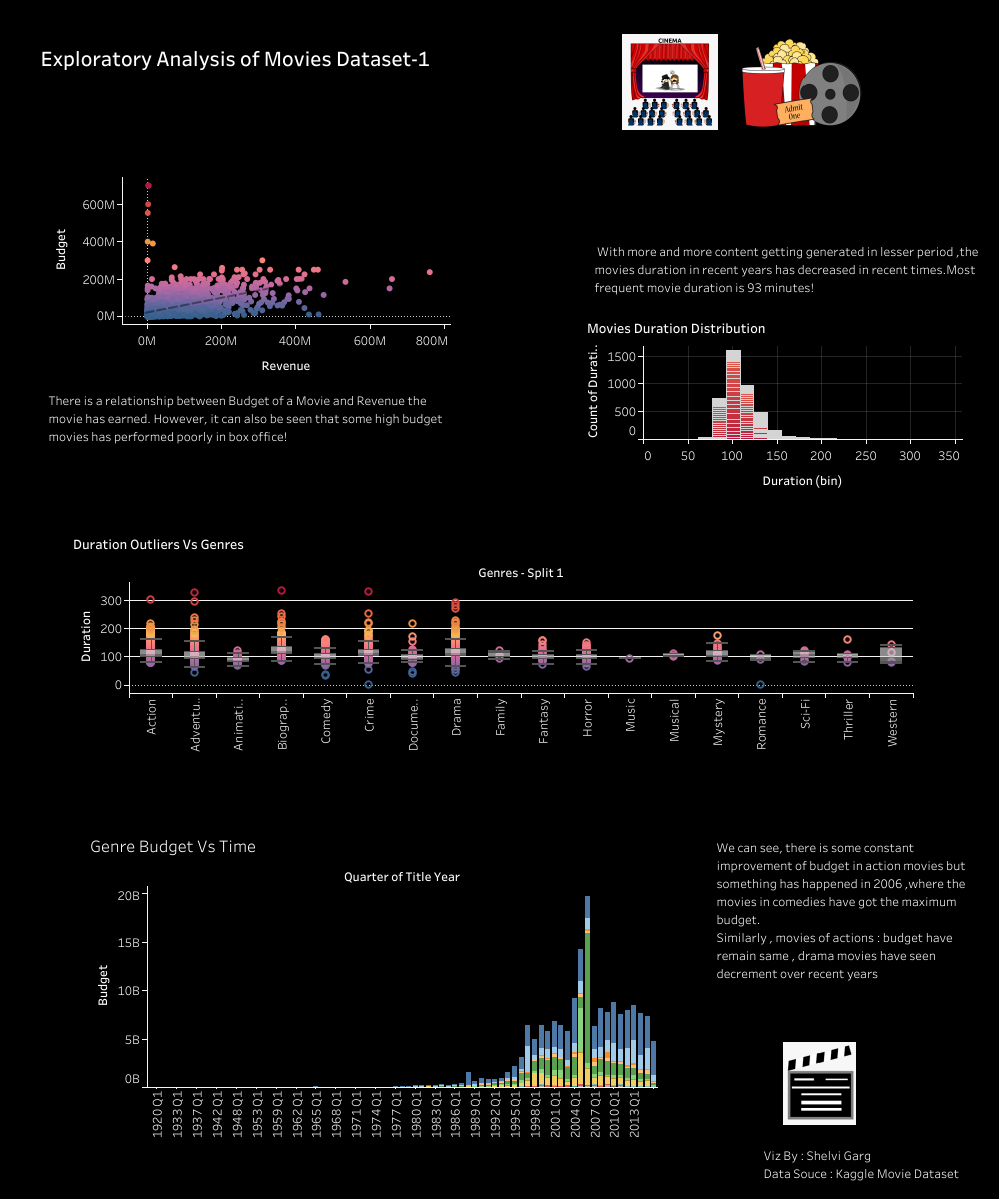

This screenshot's page, from the dashboard's own definition file:
{"tool":"tableau","page":{"name":"Dashboard 1 : Revenue, Budget and Genre","canvas":[1000,1200],"ordinal":0},"visuals":[{"type":"worksheet","box":[38,24,402,67.2]},{"type":"worksheet","param":"Image/0b44ff30dbe13528285e97eb23b3e185.png","box":[656,45,125,104]},{"type":"worksheet","param":"Image/18-183313_theater-clipart-movie-theater-clipart.png","box":[529,52,97,96]},{"type":"worksheet","title":"Budget Vs Revenue","mark":"Line","rows":["budget"],"cols":["gross"],"box":[44,177,406,204]},{"type":"worksheet","box":[592,231,394,76]},{"type":"worksheet","title":"Movies Duration Distribution","mark":"Automatic","rows":["duration"],"cols":["Duration (bin)"],"box":[583,312,379,184]},{"type":"worksheet","box":[46,385,406,66]},{"type":"worksheet","title":"Duration Outliers Vs Genres","mark":"Shape","rows":["duration"],"cols":["genres - Split 1"],"box":[69,528,844,225]},{"type":"worksheet","box":[714,825,255,169]},{"type":"worksheet","title":"Genre Budget Vs Time","mark":"Bar","rows":["budget"],"cols":["title_year"],"box":[86,828,571,311]},{"type":"worksheet","param":"Image/download.png","box":[783,1042,73,91]},{"type":"worksheet","box":[761,1143.6,201,40.8]}]}

Visuals, with their boxes in screenshot pixels (x1, y1, x2, y2), scaled from the page's 1000x1200 canvas onto the 999x1199 screenshot:
worksheet: 38/24/440/91
worksheet: 655/45/780/149
worksheet: 528/52/625/148
"Budget Vs Revenue" worksheet (Line marks): 44/177/450/381
worksheet: 591/231/985/307
"Movies Duration Distribution" worksheet: 582/312/961/496
worksheet: 46/385/452/451
"Duration Outliers Vs Genres" worksheet (Shape marks): 69/528/912/752
worksheet: 713/824/968/993
"Genre Budget Vs Time" worksheet (Bar marks): 86/827/656/1138
worksheet: 782/1041/855/1132
worksheet: 760/1143/961/1183
